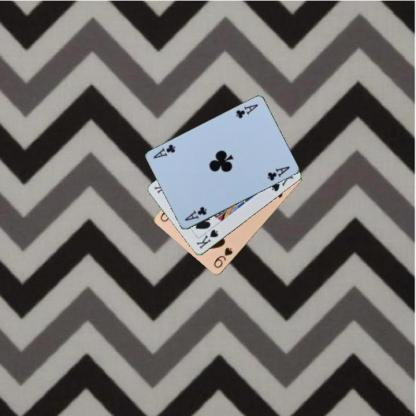9s: (210, 245, 234, 269)
Ac: (182, 204, 208, 222), (233, 102, 259, 120)
Ks: (194, 227, 220, 250)
